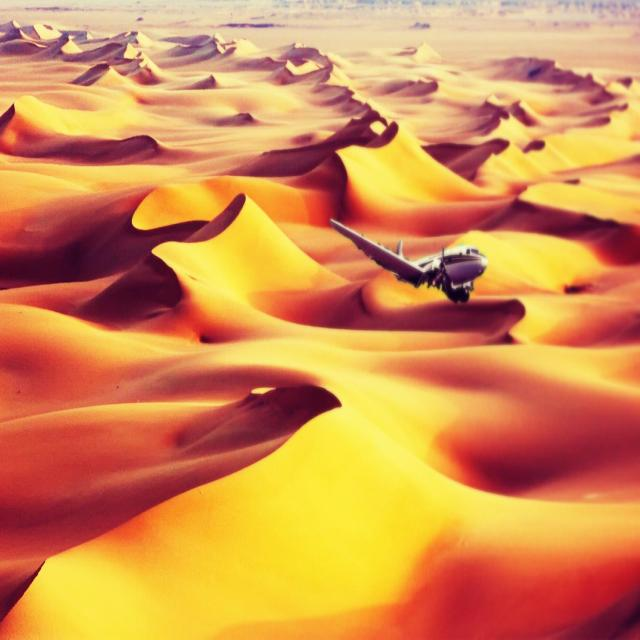airplane: (328, 216, 488, 305)
